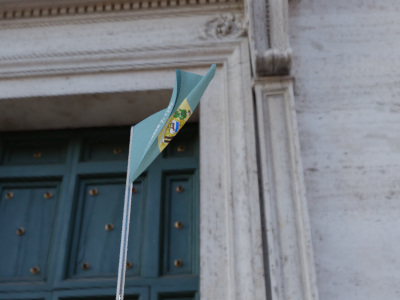Delaware flag: (127, 64, 219, 180)
